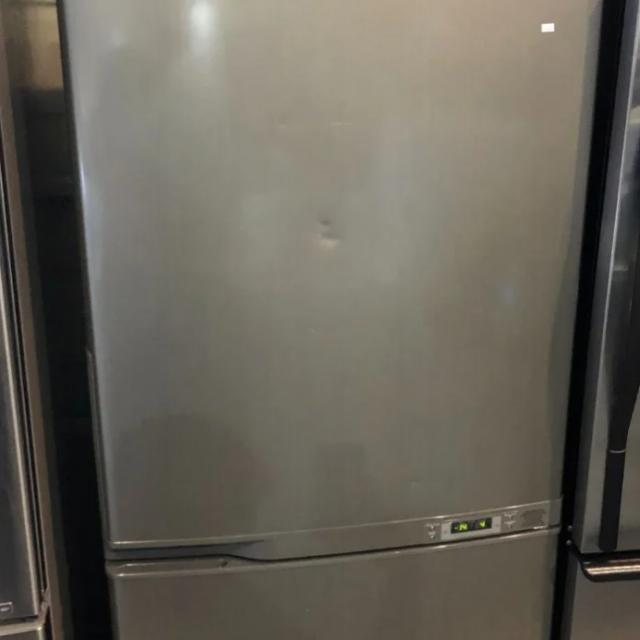dents: (310, 195, 364, 273)
